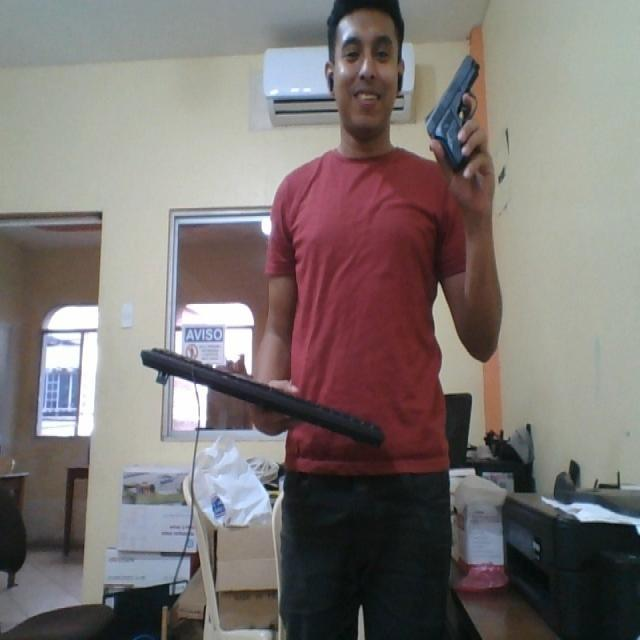weapon: (420, 55, 488, 179)
